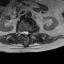CCS_normal: (24, 29, 26, 38)
LFS_stenosis: (28, 30, 30, 35)
LLS_normal: (26, 30, 28, 36)
RFS_normal: (20, 29, 22, 36)
RLS_normal: (22, 29, 24, 36)
